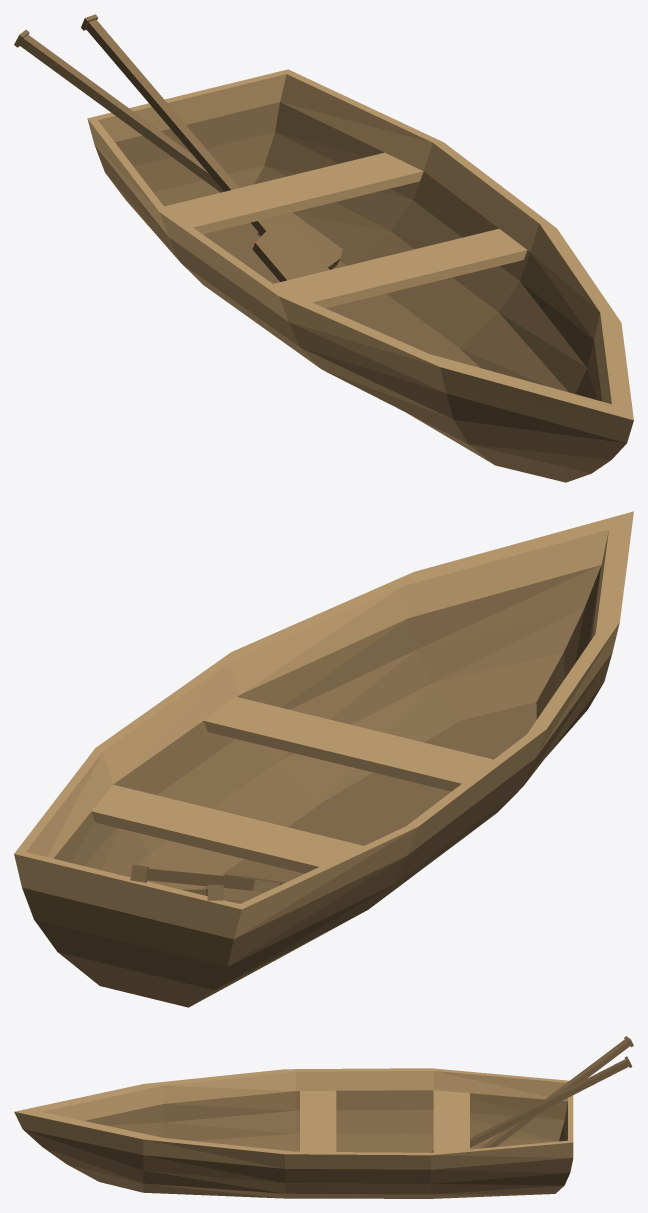
The model's file is Boat.fbx.
3 renders of one model, top to bottom at view 1: azimuth 30°, elevation 25°; view 2: azimuth 150°, elevation 25°; view 3: azimuth 270°, elevation 25°, orthographic. The views are drawn at different scales.
Visible parts, largest first — view 1: Boat; view 2: Boat; view 3: Boat.
Boxes of the visible parts, x1,y1,x2,y2 form: Boat: [14, 14, 633, 482]; Boat: [14, 511, 633, 1007]; Boat: [14, 1036, 633, 1198].
Size of the model in its own units: 64.53 by 37.04 by 194.
